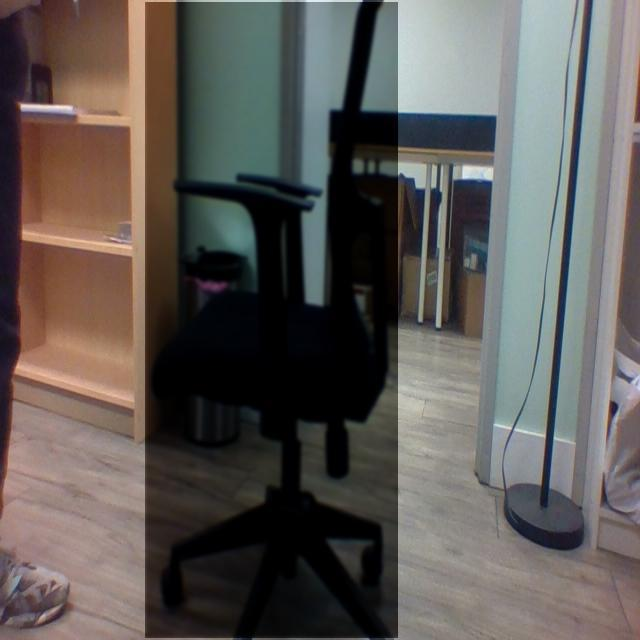chair: (145, 0, 389, 640)
